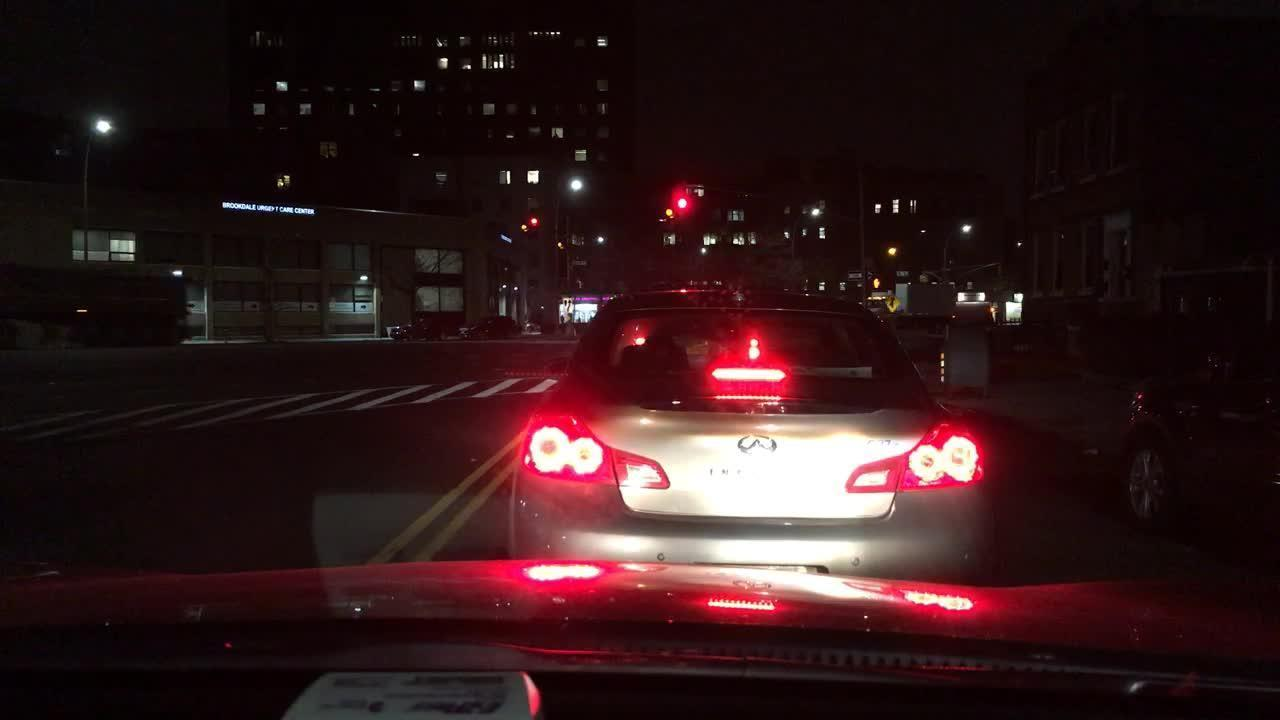Infiniti: (736, 428, 781, 459)
